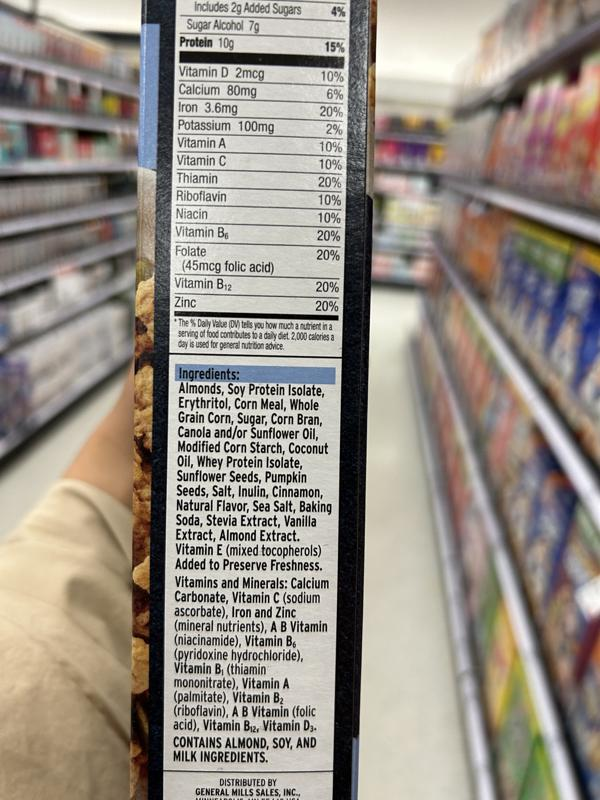ingredients: (173, 363, 334, 573)
